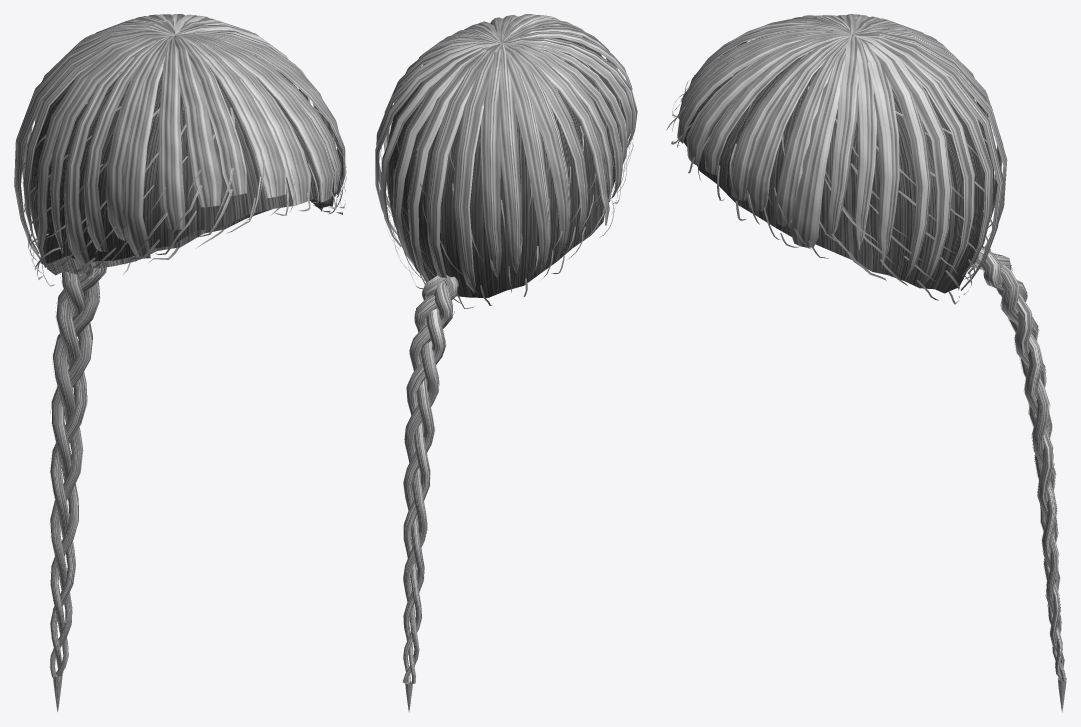
The model's file is unified_f_braid.glb.
The picture shows the model from 3 angles, left to right: view 1: azimuth 30°, elevation 25°; view 2: azimuth 150°, elevation 25°; view 3: azimuth 270°, elevation 25°; orthographic projection. The views are drawn at different scales.
Visible parts, largest first — view 1: Hair_directional_locks, Hair_scalp, Hair_braid_bundle.002, Hair_braid_bundle, Hair_braid_bundle.001, Hair_layered_strands, Hair_braid_fibres; view 2: Hair_directional_locks, Hair_scalp, Hair_braid_bundle.001, Hair_braid_bundle.002, Hair_braid_bundle, Hair_layered_strands, Hair_braid_fibres; view 3: Hair_directional_locks, Hair_scalp, Hair_layered_strands, Hair_braid_bundle, Hair_braid_bundle.002, Hair_braid_bundle.001, Hair_braid_fibres.
Part boxes in pixels (x1,y1,x2,y2): Hair_directional_locks: (14,14,345,267); Hair_scalp: (29,55,334,275); Hair_braid_bundle.002: (50,267,106,673); Hair_braid_bundle: (50,271,92,675); Hair_braid_bundle.001: (50,270,99,677); Hair_layered_strands: (22,56,346,286); Hair_braid_fibres: (49,267,106,675); Hair_directional_locks: (375,14,637,293); Hair_scalp: (387,38,626,297); Hair_braid_bundle.001: (403,274,452,683); Hair_braid_bundle.002: (402,276,458,683); Hair_braid_bundle: (403,275,448,682); Hair_layered_strands: (378,33,633,308); Hair_braid_fibres: (403,287,454,679); Hair_directional_locks: (677,14,1007,290); Hair_scalp: (683,52,993,293); Hair_layered_strands: (666,40,999,304); Hair_braid_bundle: (973,247,1062,680); Hair_braid_bundle.002: (982,246,1066,681); Hair_braid_bundle.001: (971,252,1064,667); Hair_braid_fibres: (975,262,1064,676).
Size of the model in its own units: 0.091 by 0.2422 by 0.1285.
2 materials, 2 textured.
